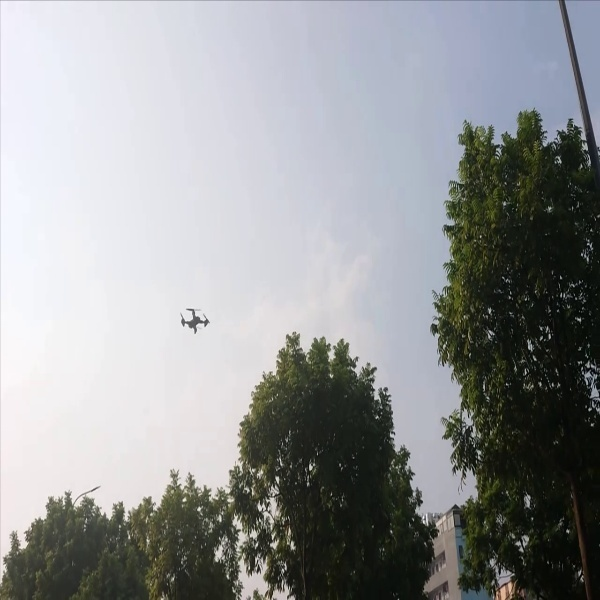drone: (173, 298, 213, 337)
